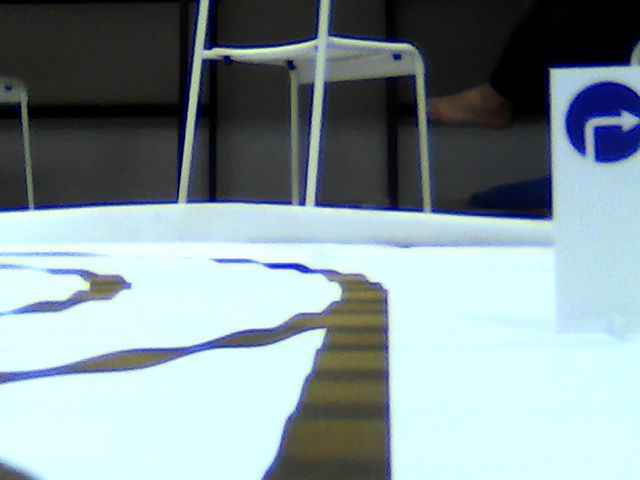Right: (564, 79, 640, 166)
